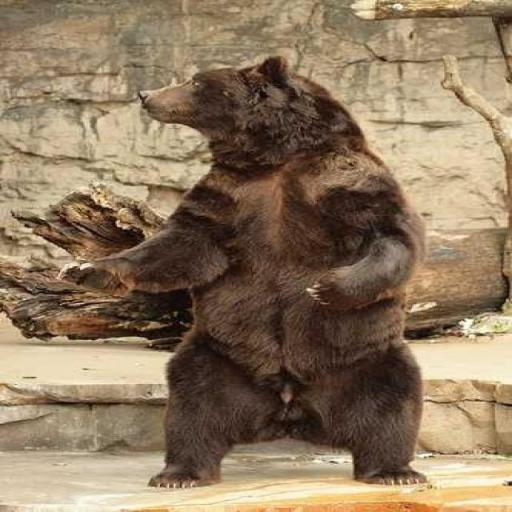Rhino: (64, 54, 430, 488)
